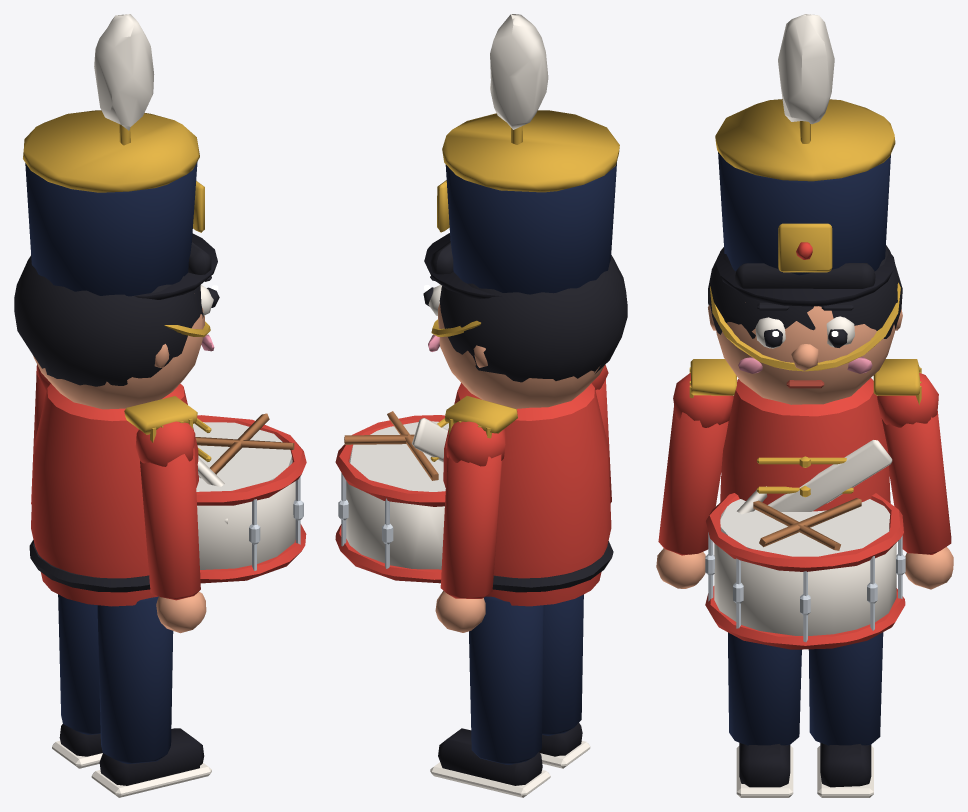
Rendered from drummer.glb.
3 renders of one model, left to right at view 1: azimuth 30°, elevation 25°; view 2: azimuth 150°, elevation 25°; view 3: azimuth 270°, elevation 25°, orthographic.
Visible parts, largest first — view 1: drummer; view 2: drummer; view 3: drummer.
Boxes of the visible parts, bbox=[...] form: drummer: bbox=[14, 14, 306, 797]; drummer: bbox=[335, 14, 627, 797]; drummer: bbox=[656, 14, 953, 797].
Size of the model in its own units: 0.7049 by 1.9 by 0.6736.
Materials: 1 (1 with a texture image).
